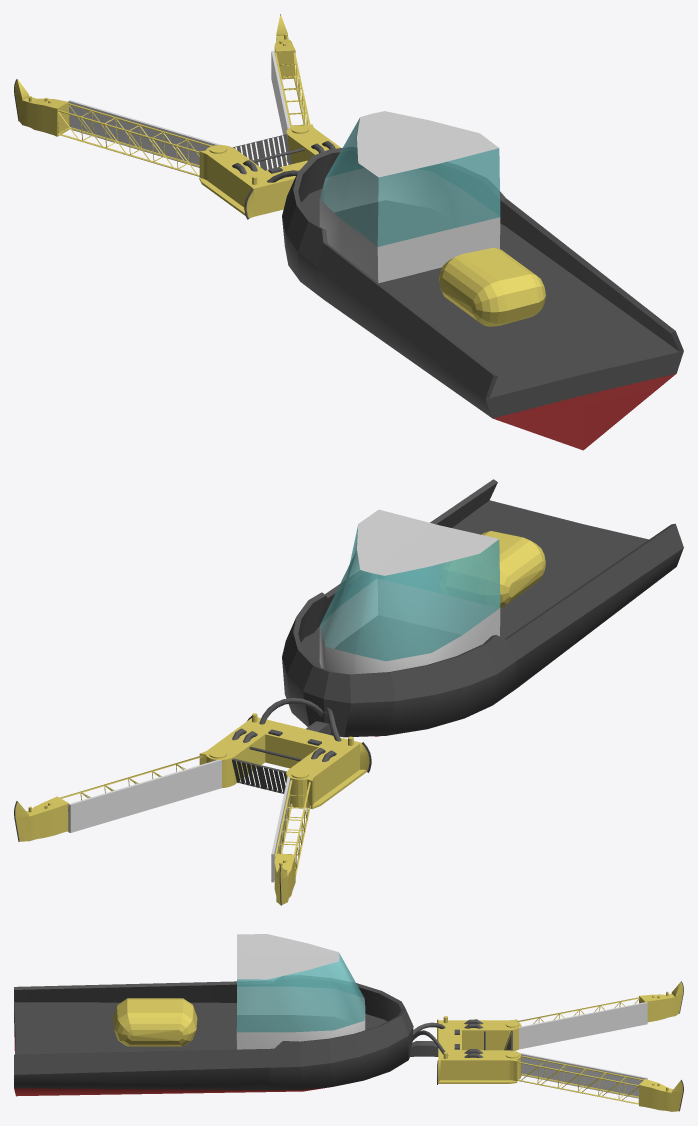
Rendered from scraper.fbx.
3 views of the same model, one above another, from view 1: azimuth 30°, elevation 25°; view 2: azimuth 150°, elevation 25°; view 3: azimuth 270°, elevation 25° (orthographic). The views are drawn at different scales.
Visible parts, largest first — view 1: polySurface204; view 2: polySurface204; view 3: polySurface204.
Part boxes in pixels (x1,y1,x2,y2): polySurface204: [14, 14, 683, 450]; polySurface204: [14, 479, 683, 905]; polySurface204: [14, 934, 683, 1111].
Size of the model in its own units: 44.06 by 28.74 by 125.
